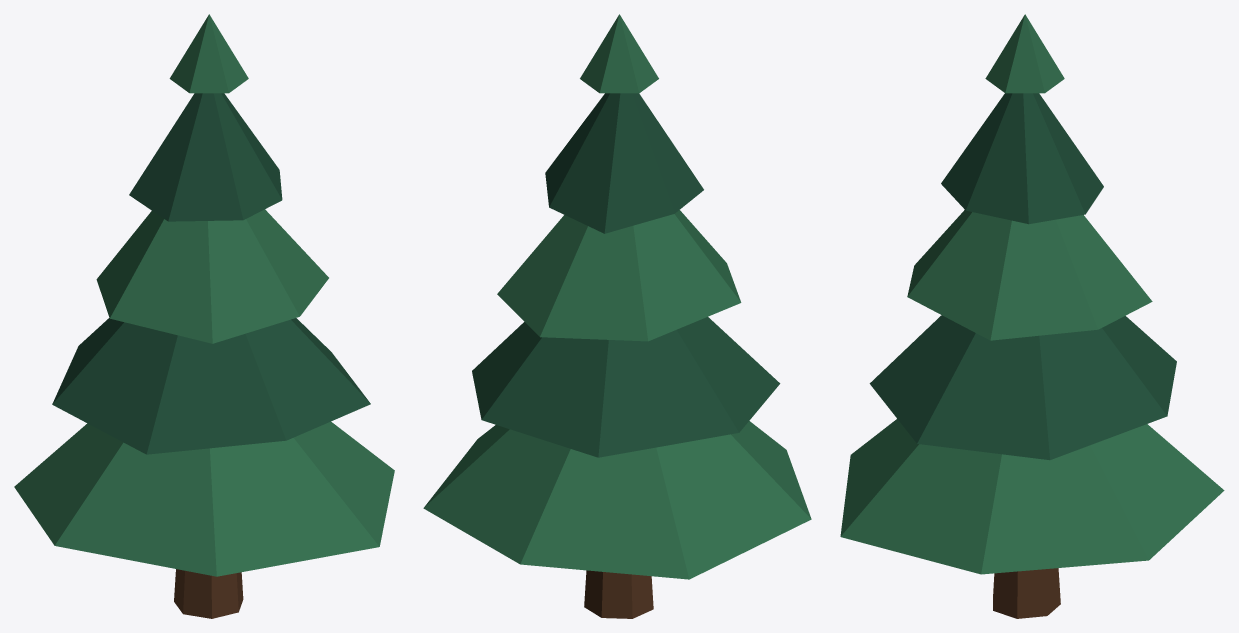
The model's file is PineTree.fbx.
3 views of the same model, side by side, from view 1: azimuth 30°, elevation 25°; view 2: azimuth 150°, elevation 25°; view 3: azimuth 270°, elevation 25° (orthographic).
Visible parts, largest first — view 1: PineTree; view 2: PineTree; view 3: PineTree.
Part boxes in pixels (left/top/right/bottom): PineTree: left=14, top=14, right=394, bottom=618; PineTree: left=423, top=14, right=811, bottom=618; PineTree: left=840, top=14, right=1224, bottom=618.
Bounding box in the file's own units: 9.8 × 16.4 × 9.67.
1 material, 1 textured.
